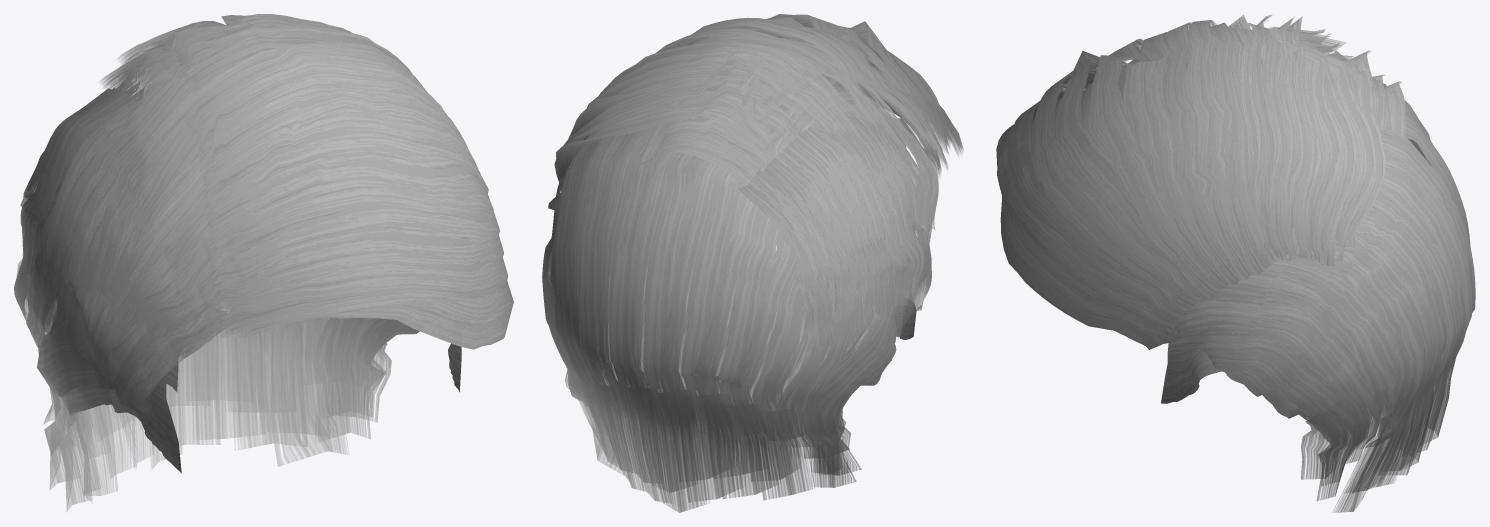
Rendered from daz_hair_pixie_chic.glb.
3 renders of one model, left to right at view 1: azimuth 30°, elevation 25°; view 2: azimuth 150°, elevation 25°; view 3: azimuth 270°, elevation 25°, orthographic. The views are drawn at different scales.
Parts seen in each view (by area): view 1: daz_hair_pixie_chic; view 2: daz_hair_pixie_chic; view 3: daz_hair_pixie_chic.
Boxes of the visible parts, x1=… form: daz_hair_pixie_chic: x1=14, y1=14, x2=513, y2=511; daz_hair_pixie_chic: x1=542, y1=14, x2=963, y2=512; daz_hair_pixie_chic: x1=996, y1=14, x2=1475, y2=512.
Bounding box in the file's own units: 0.1714 × 0.2137 × 0.2142.
Materials: 1 (1 with a texture image).
